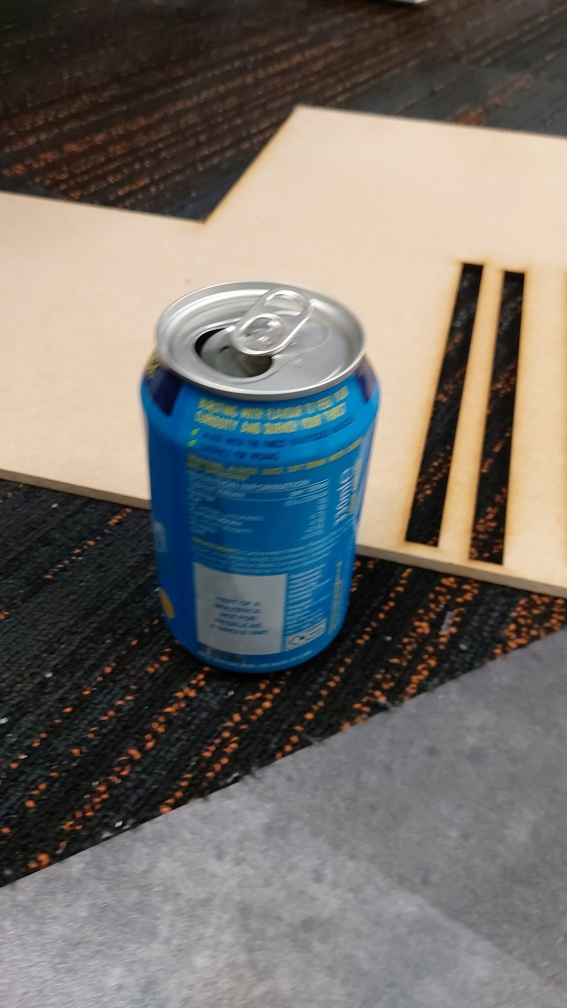can_blue: (97, 248, 424, 726)
